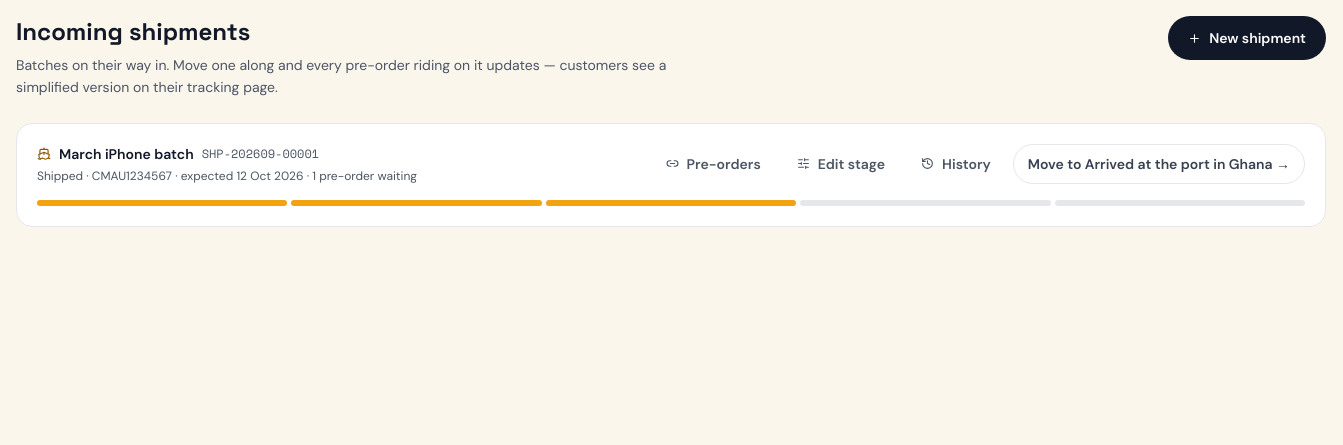
Test: Shipments — attaching pre-orders to a batch › lists the pre-orders waiting to be assigned
Click the button "Pre-orders".
click(713, 164)  # box x1=652 y1=145 x2=775 y2=183
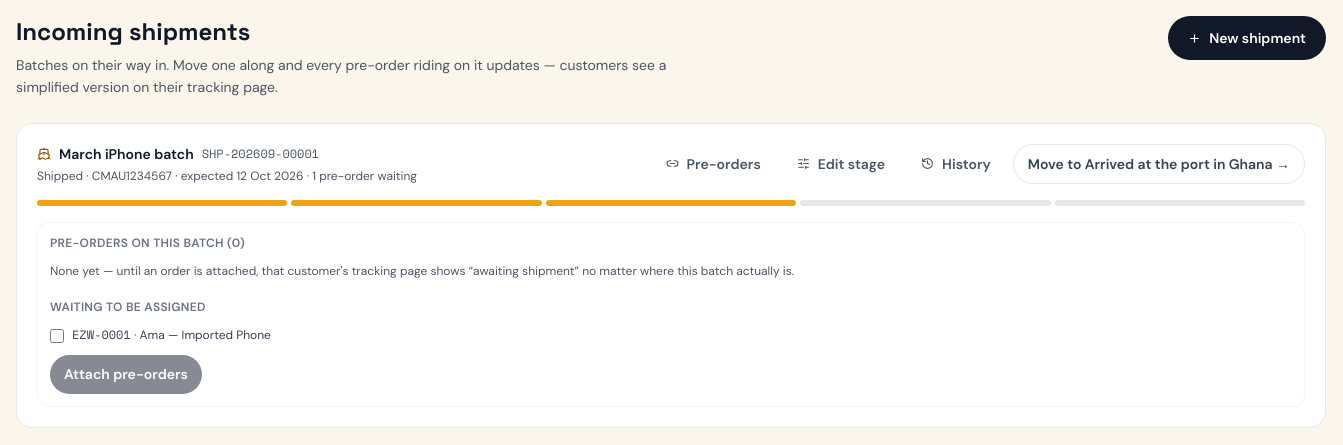
Result: the text "EZW-0001" is shown at x1=72 y1=327 x2=131 y2=343
Result: the text "EZW-0001 · Ama — Imported Phone" is shown at x1=72 y1=327 x2=271 y2=343
